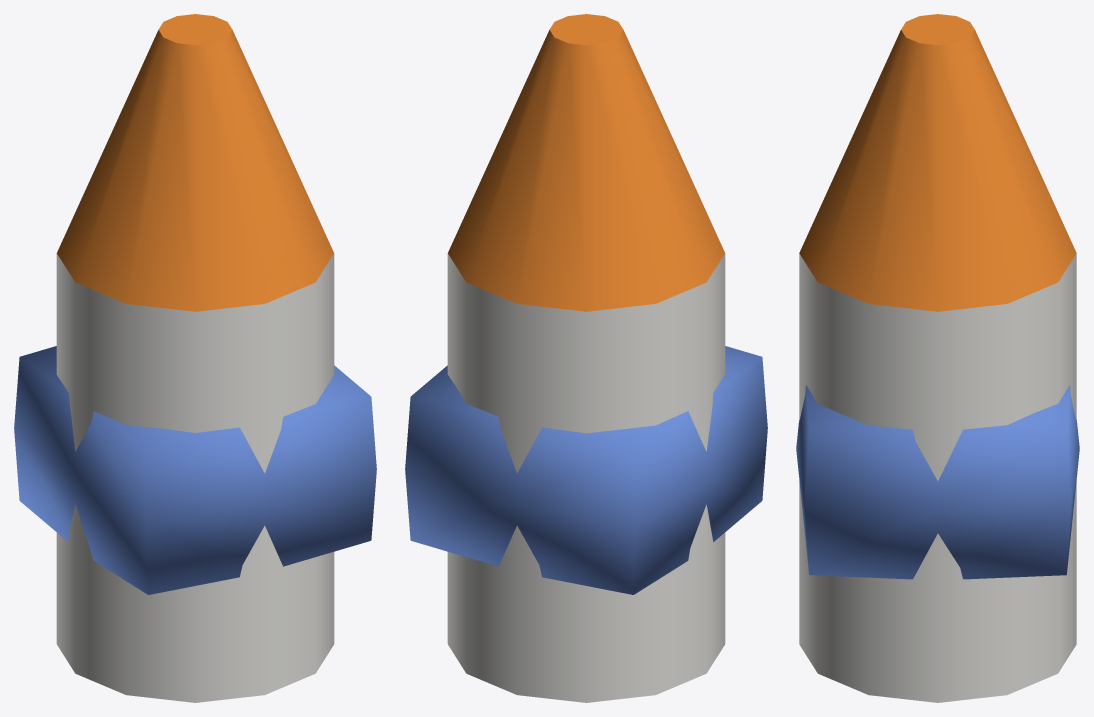
The model's file is glue.glb.
3 renders of one model, left to right at view 1: azimuth 30°, elevation 25°; view 2: azimuth 150°, elevation 25°; view 3: azimuth 270°, elevation 25°, orthographic.
Parts seen in each view (by area): view 1: root; view 2: root; view 3: root.
Boxes of the visible parts, bbox=[...] form: root: bbox=[14, 14, 376, 702]; root: bbox=[405, 14, 767, 702]; root: bbox=[796, 14, 1079, 702].
Size of the model in its own units: 0.092 by 0.22 by 0.092.
